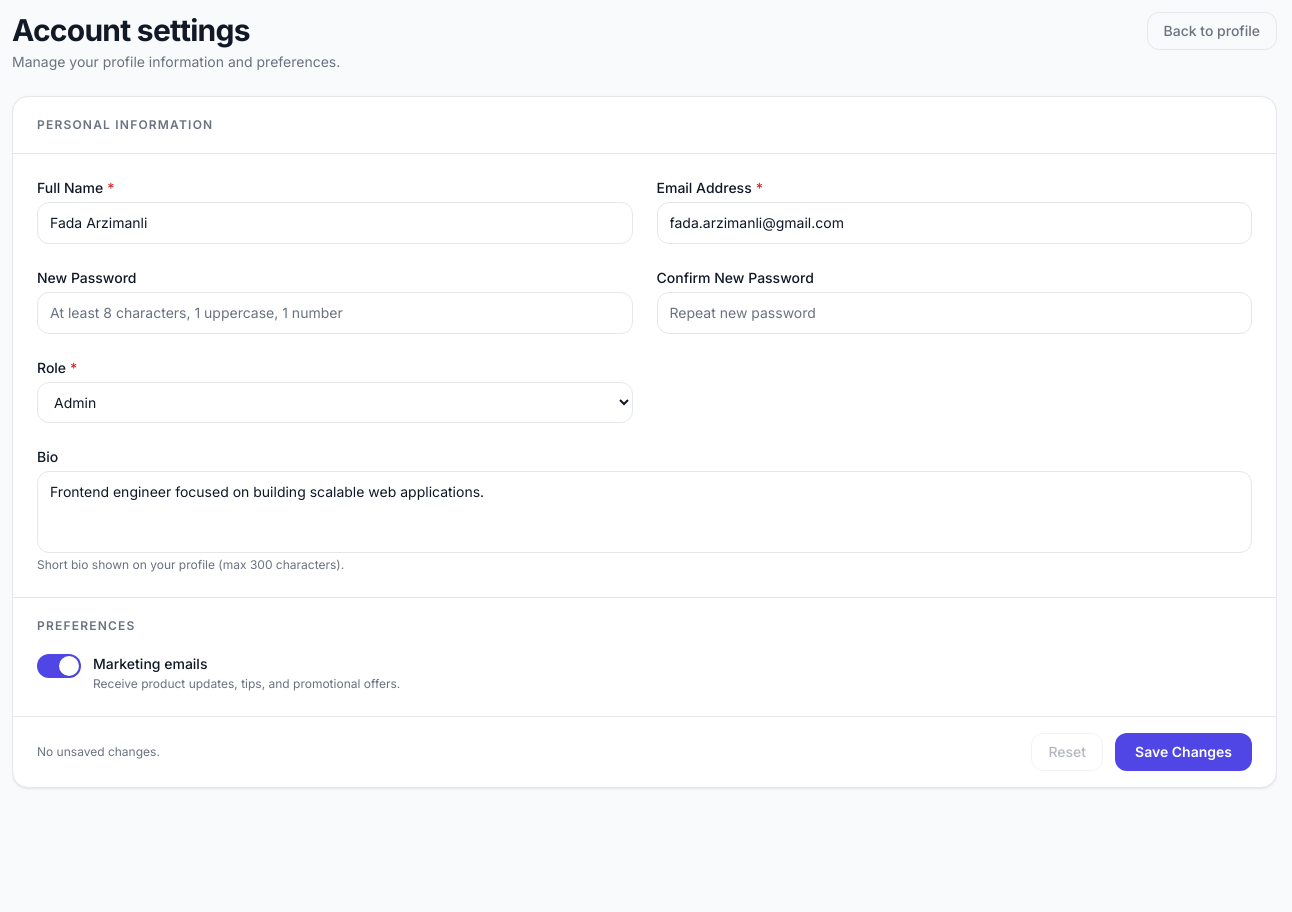
SettingsPage › successful submission › shows the success alert after saving valid changes
The image size is (1292, 912).
Replace the text in the field labelled "Full Name*" with "New Valid Name" at [335, 223], box [37,202,632,244]
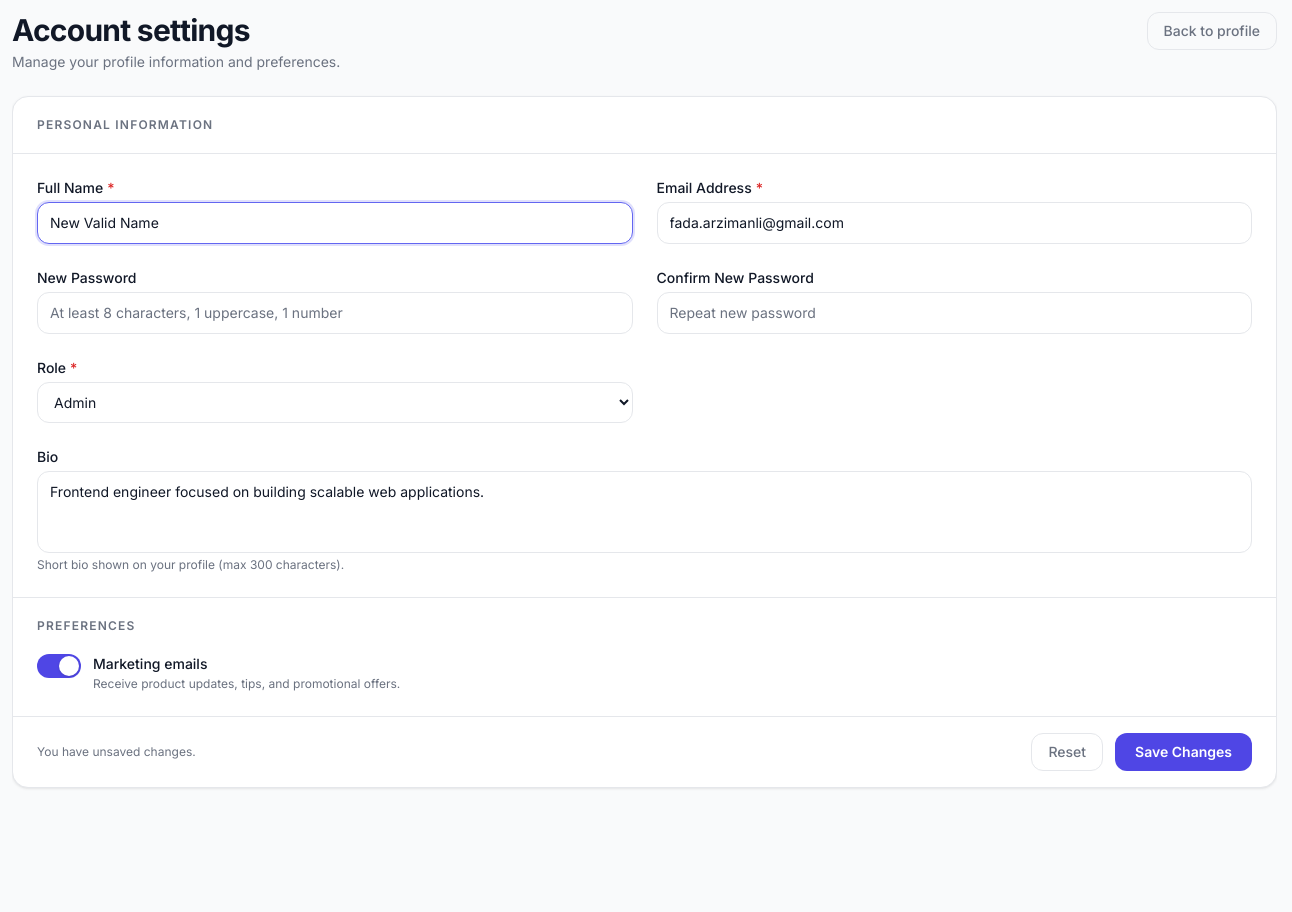
Click the button "Save Changes".
click(1184, 752)  # box [1115,733,1252,771]
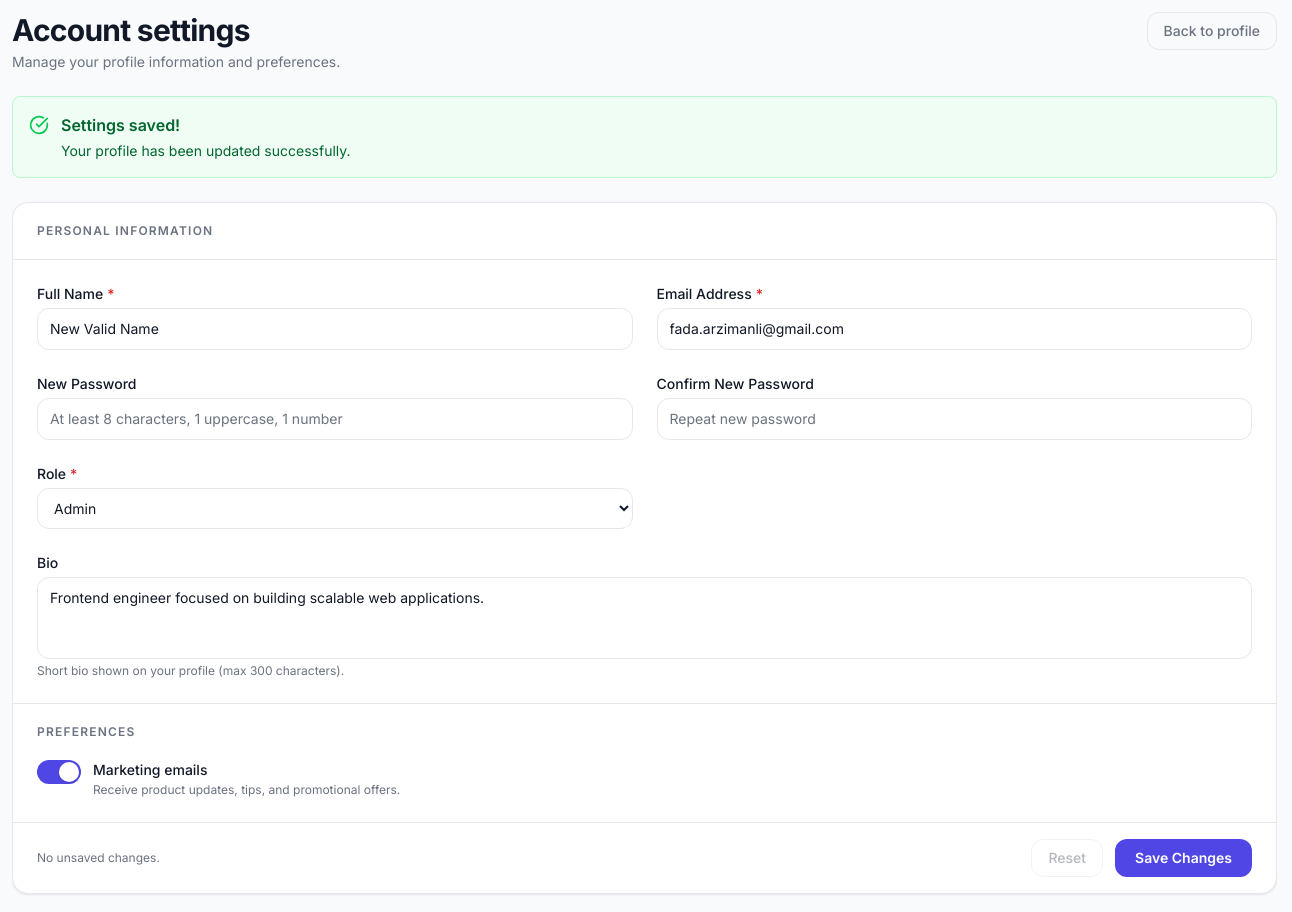
Now the text "Settings saved!" is shown, box [61,115,180,135]
